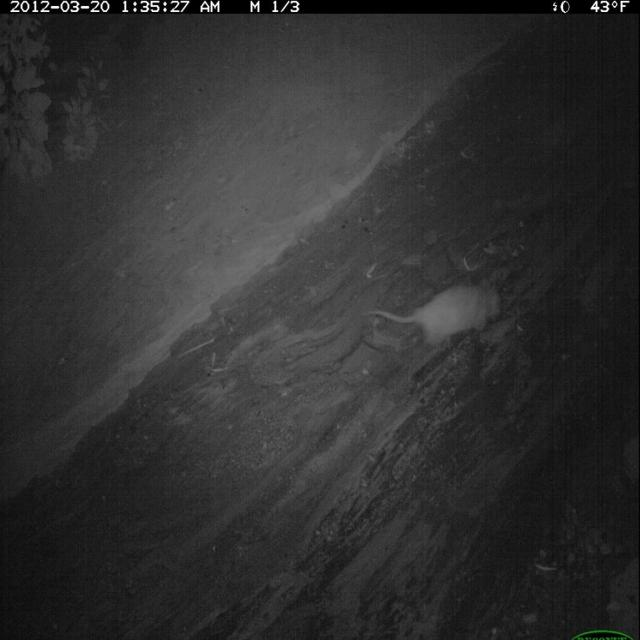opossum: (363, 272, 505, 354)
